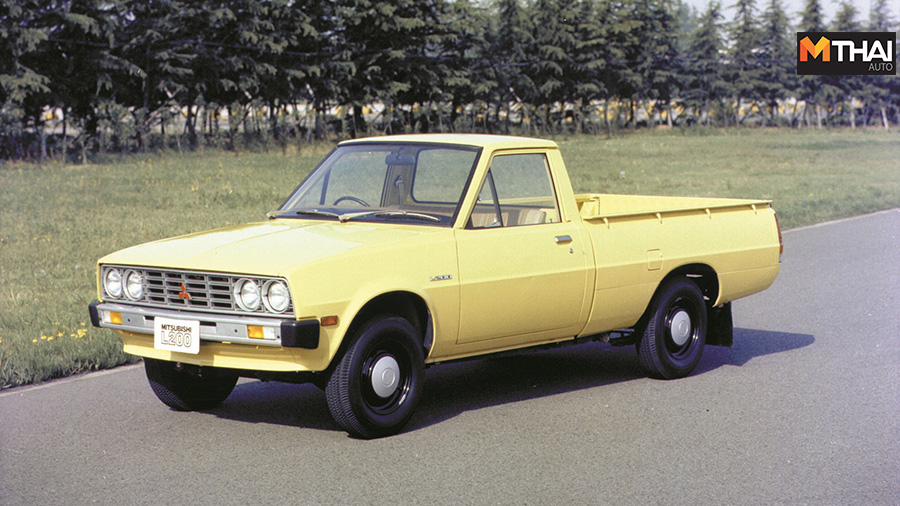pickup: (85, 128, 790, 441)
